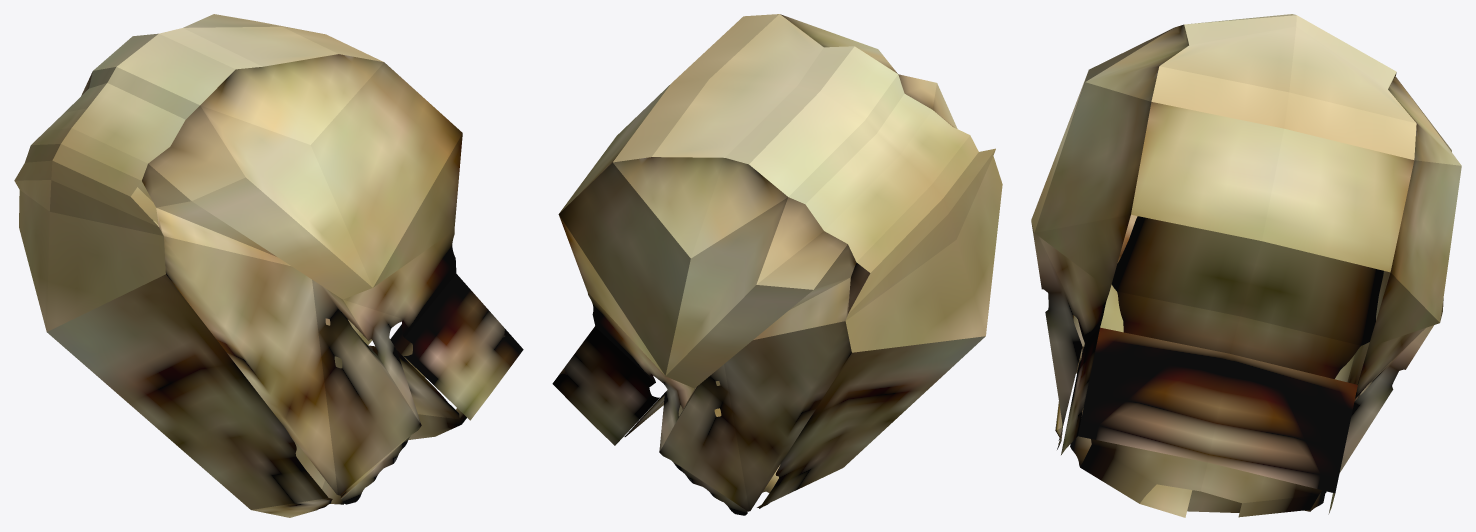
File: SkellyHead.fbx
The picture shows the model from 3 angles, left to right: view 1: azimuth 30°, elevation 25°; view 2: azimuth 150°, elevation 25°; view 3: azimuth 270°, elevation 25°; orthographic projection. The views are drawn at different scales.
Visible parts, largest first — view 1: skeleton.002; view 2: skeleton.002; view 3: skeleton.002.
Part boxes in pixels (x1=…): skeleton.002: x1=14, y1=14, x2=523, y2=517; skeleton.002: x1=552, y1=14, x2=1002, y2=515; skeleton.002: x1=1031, y1=14, x2=1461, y2=517.
Size of the model in its own units: 23.76 by 25.68 by 21.75.
